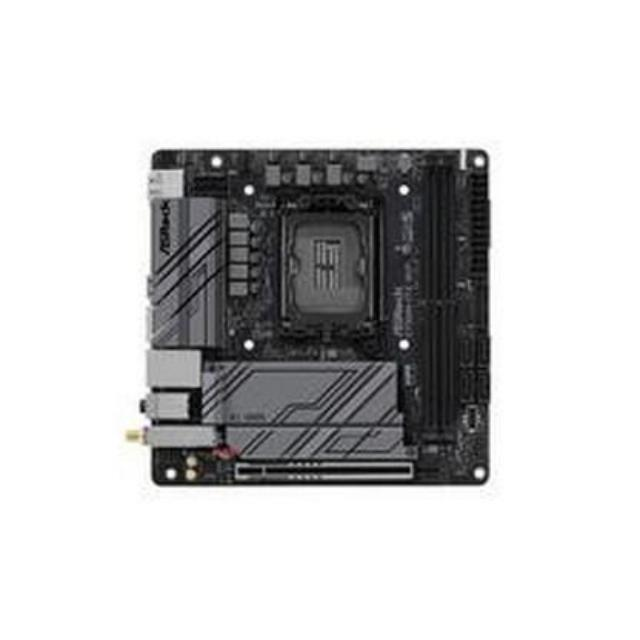Mainboard: (144, 138, 493, 490)
